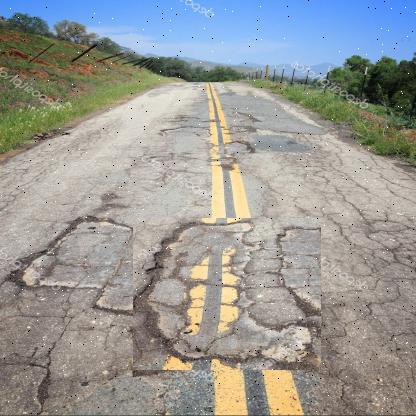crack: (306, 129, 358, 201)
damage: (132, 218, 321, 371), (8, 209, 189, 315), (189, 134, 270, 166)
